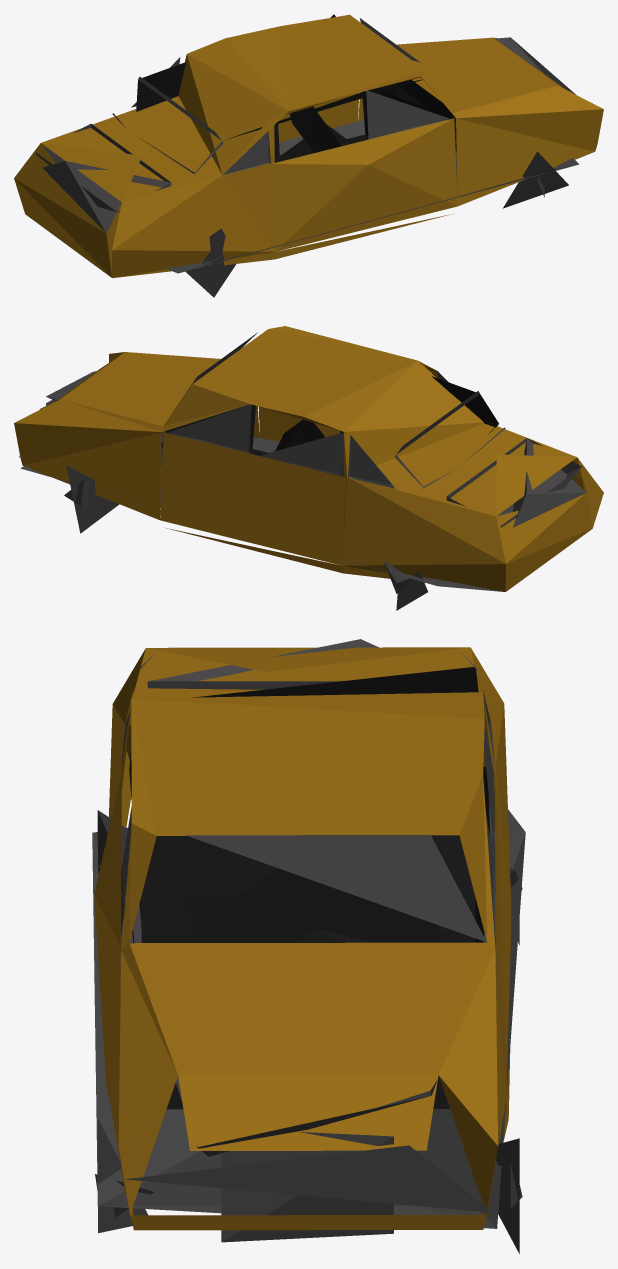
The model's file is taxi.lod2.glb.
3 views of the same model, one above another, from view 1: azimuth 30°, elevation 25°; view 2: azimuth 150°, elevation 25°; view 3: azimuth 270°, elevation 25° (orthographic). The views are drawn at different scales.
Parts seen in each view (by area): view 1: Canyon75_Body_Canyon75_Bodymat_0; view 2: Canyon75_Body_Canyon75_Bodymat_0; view 3: Canyon75_Body_Canyon75_Bodymat_0.
Part boxes in pixels (box(x1,y1,x2,y2)): Canyon75_Body_Canyon75_Bodymat_0: box(14, 14, 603, 297); Canyon75_Body_Canyon75_Bodymat_0: box(14, 326, 603, 610); Canyon75_Body_Canyon75_Bodymat_0: box(92, 639, 525, 1253).
Size of the model in its own units: 4.7 by 1.49 by 1.79.
